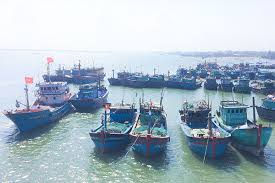tau_dansu: (1, 74, 78, 133), (176, 94, 236, 162), (213, 92, 268, 160), (130, 94, 172, 160), (94, 98, 136, 158), (41, 54, 111, 82), (73, 71, 111, 108), (120, 66, 166, 91), (219, 73, 239, 95), (201, 76, 219, 93)
